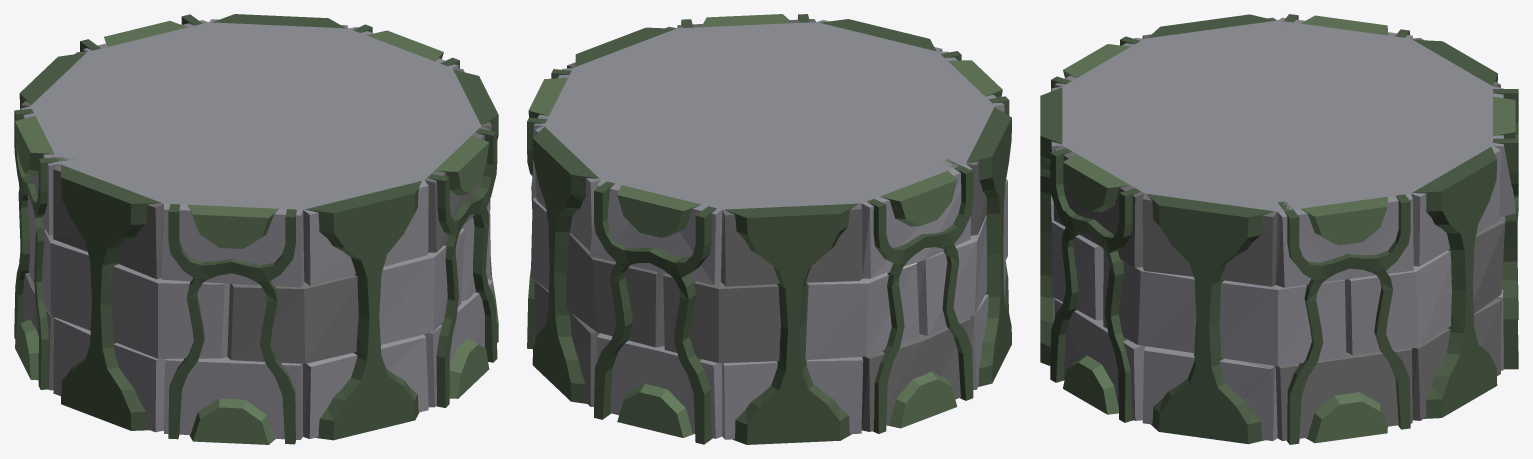
The model's file is _TOWER_4_BASE_1.fbx.
3 renders of one model, left to right at view 1: azimuth 30°, elevation 25°; view 2: azimuth 150°, elevation 25°; view 3: azimuth 270°, elevation 25°, orthographic.
Parts seen in each view (by area): view 1: TOWER_4_BASE_1; view 2: TOWER_4_BASE_1; view 3: TOWER_4_BASE_1.
Boxes of the visible parts, x1,y1,x2,y2 form: TOWER_4_BASE_1: (14, 14, 498, 444); TOWER_4_BASE_1: (527, 14, 1011, 444); TOWER_4_BASE_1: (1040, 14, 1518, 444).
Size of the model in its own units: 613 by 317 by 607.
